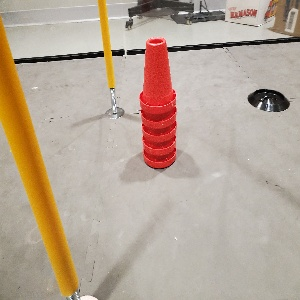Red_5: (135, 32, 182, 171)
